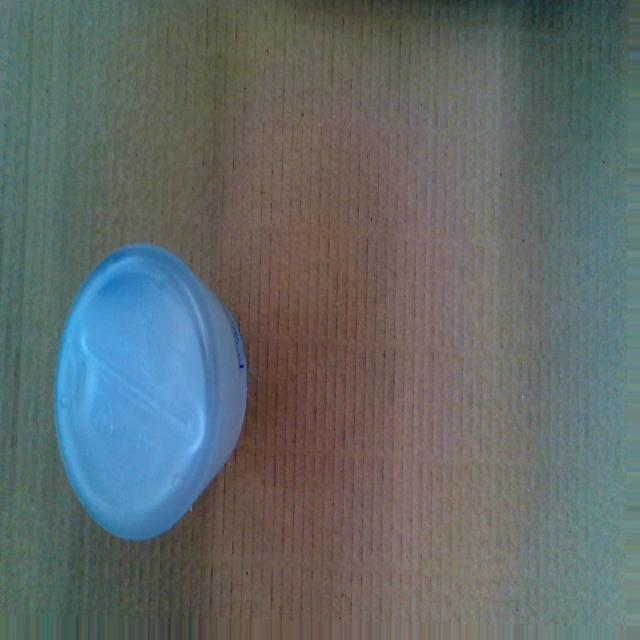bottle: (53, 243, 247, 545)
